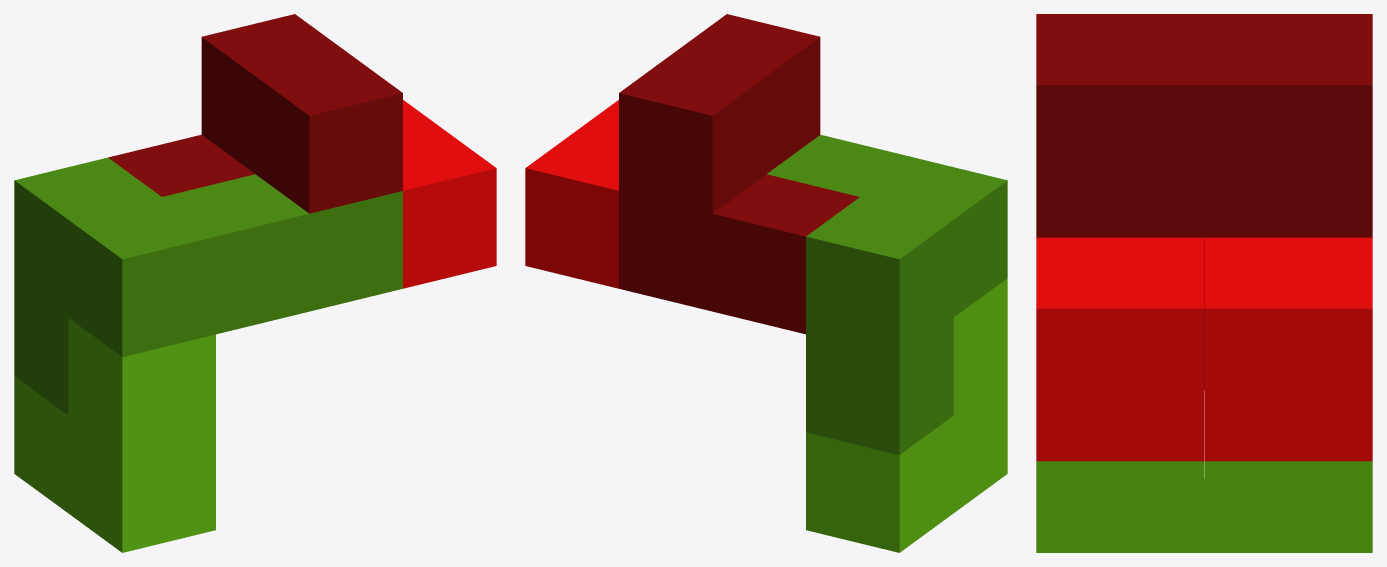
3 views of the same model, side by side, from view 1: azimuth 30°, elevation 25°; view 2: azimuth 150°, elevation 25°; view 3: azimuth 270°, elevation 25° (orthographic). The views are drawn at different scales.
Parts seen in each view (by area): view 1: mergedBlocks(Clone); view 2: mergedBlocks(Clone); view 3: mergedBlocks(Clone).
Part boxes in pixels (x1,y1,x2,y2): mergedBlocks(Clone): (14, 14, 496, 552); mergedBlocks(Clone): (525, 14, 1007, 552); mergedBlocks(Clone): (1036, 14, 1372, 552).
Size of the model in its own units: 4 by 4 by 2.
4 materials, 4 textured.
